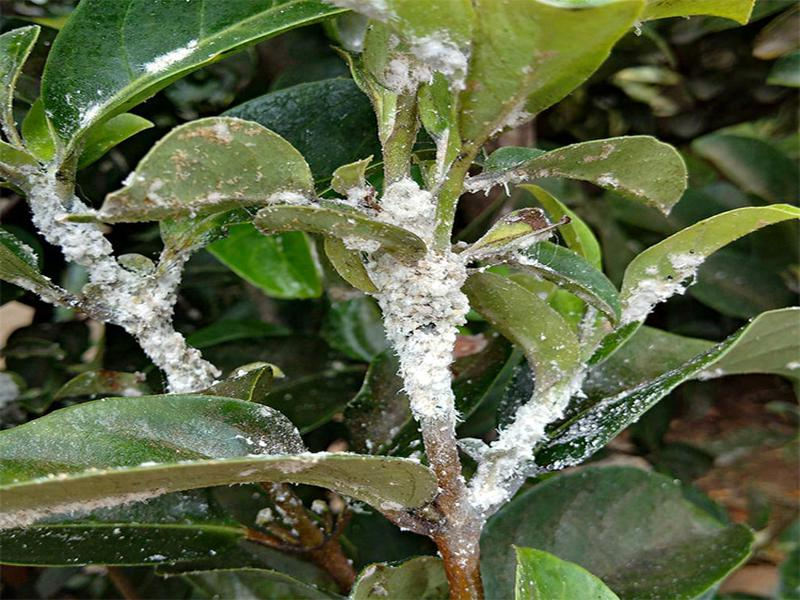Mealy_bug: (35, 166, 242, 406), (327, 180, 497, 423)
